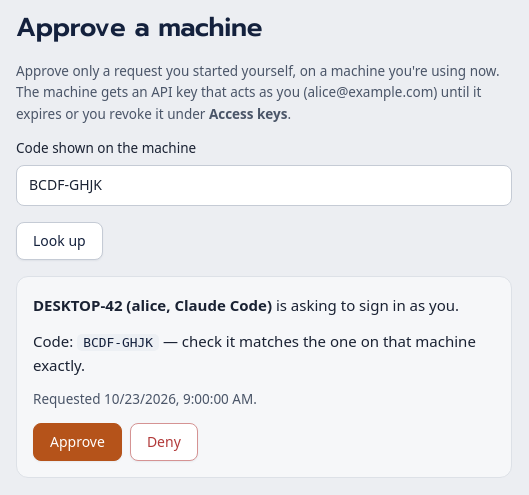
Test: DeviceApproval › looks up the code from the link, shows which machine is asking, and approves it
This screenshot has width=529, height=495.
Expected: the text "DESKTOP-42 (alice, Claude Code)" is shown, [33, 295, 272, 315]
What coordinates should you click on to do the following:
click the button "Approve"
I would click on:
 (77, 442)
Its box is [33, 423, 122, 461].
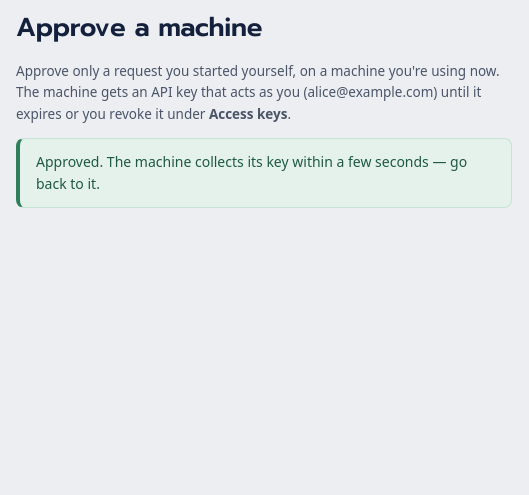
Expected: the message shows "Approved", [36, 152, 467, 193]
